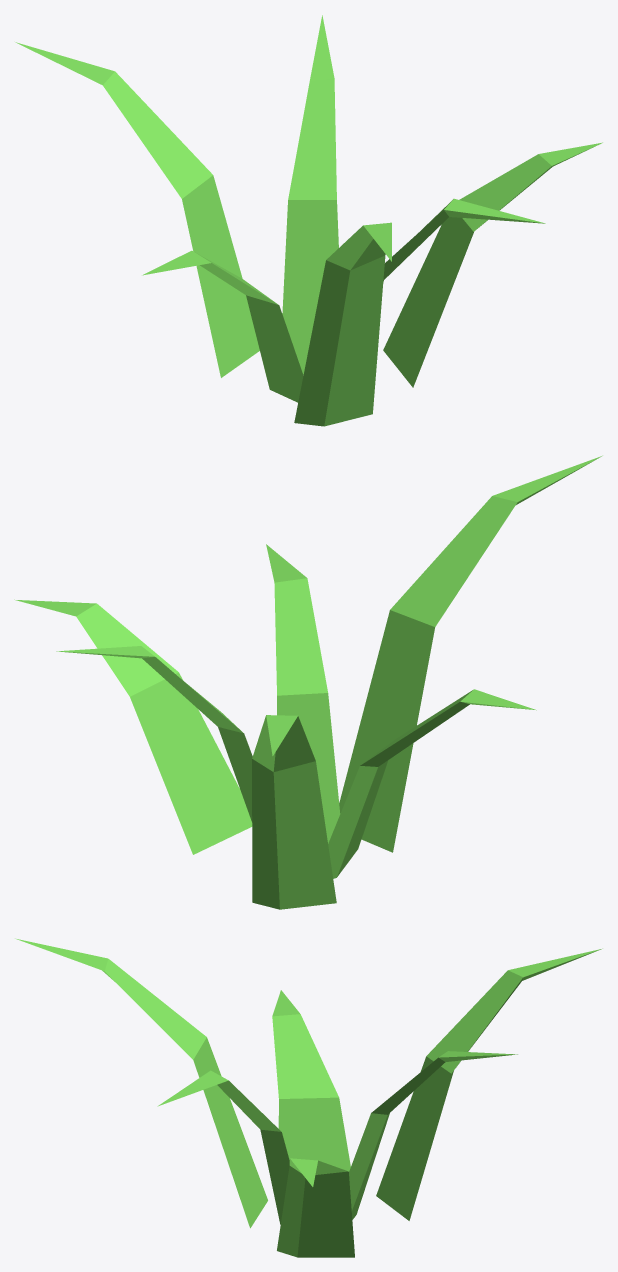
The model's file is Grass1.fbx.
3 views of the same model, one above another, from view 1: azimuth 30°, elevation 25°; view 2: azimuth 150°, elevation 25°; view 3: azimuth 270°, elevation 25° (orthographic). The views are drawn at different scales.
Visible parts, largest first — view 1: Grass1; view 2: Grass1; view 3: Grass1.
Boxes of the visible parts, x1,y1,x2,y2 form: Grass1: (15,15,602,426); Grass1: (14,455,602,909); Grass1: (15,938,602,1257).
Bounding box in the file's own units: 13.54 × 7.62 × 16.92.
